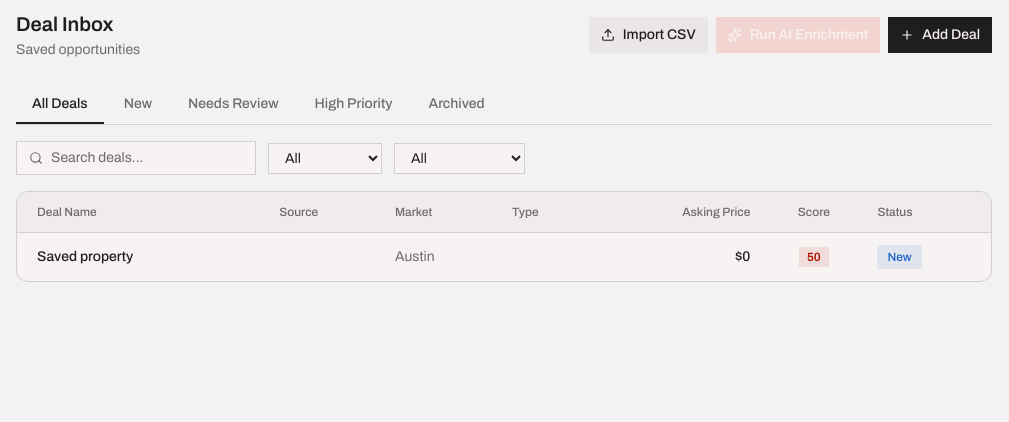
Test case: Source activity in empty saved workspaces › keeps saved-deal filtering separate from incoming activity
Expected: the cell "Saved property" is shown, [17,232,267,281]
Type "no match" into the field labelled "Search deals" at (147, 158), box [51,148,243,168]
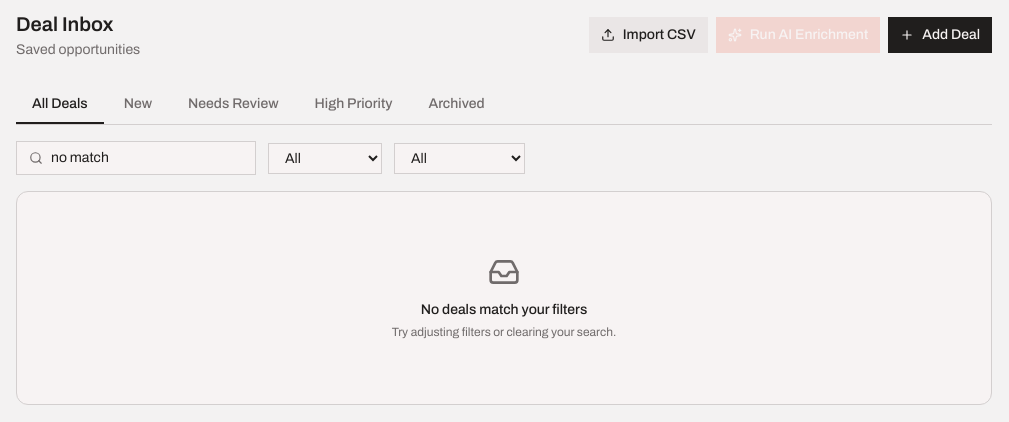
Expected: the text "No deals match your filters" is shown, [421,300,587,320]
Clear the field named "Search deals" at (147, 158), box [51,148,243,168]
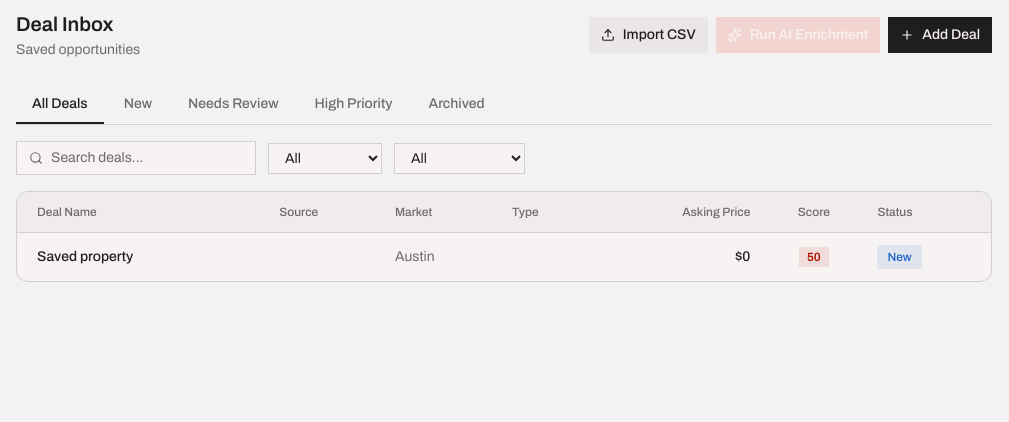
Expected: the cell "Saved property" is shown, [17,232,267,281]
